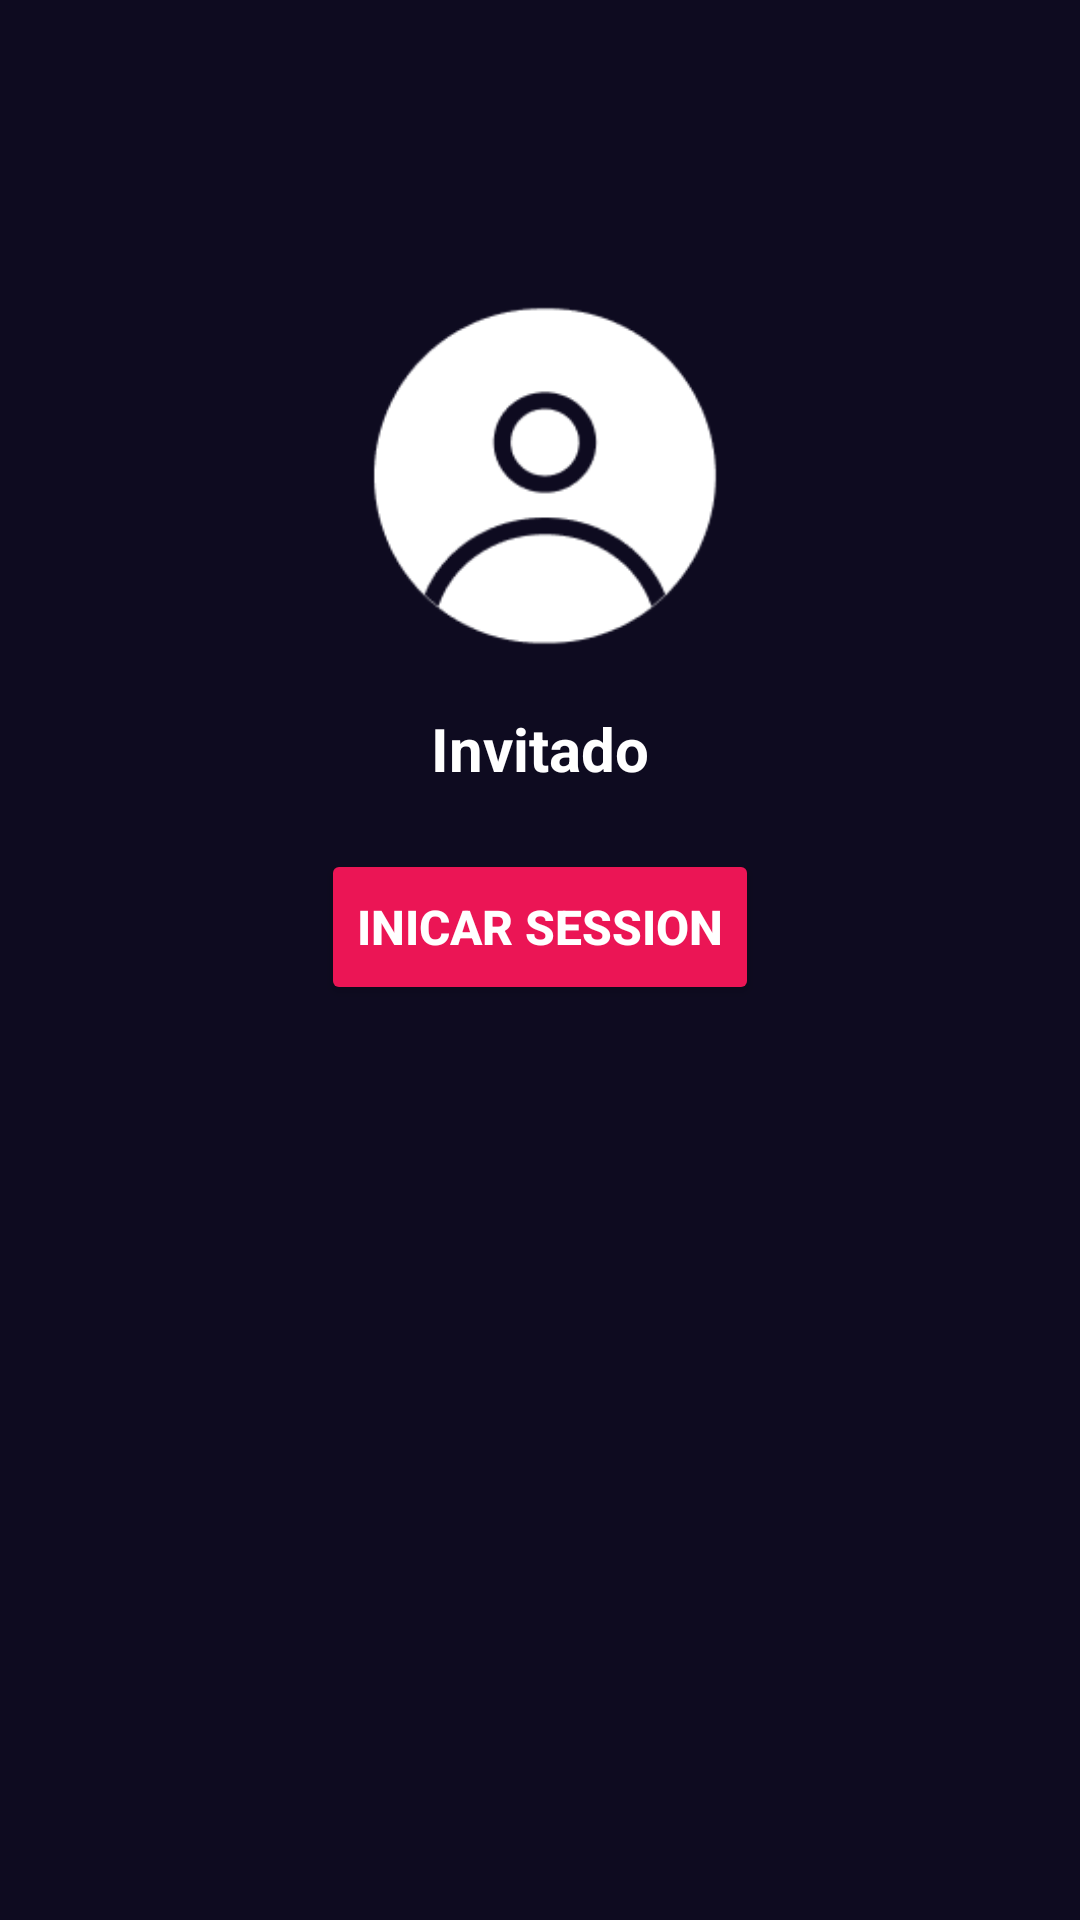

Named icons in this screenshot (1080px×1920px) and their bounding boxes, (x1, y1, x2, y2):
usuario: (373, 307, 717, 644)
